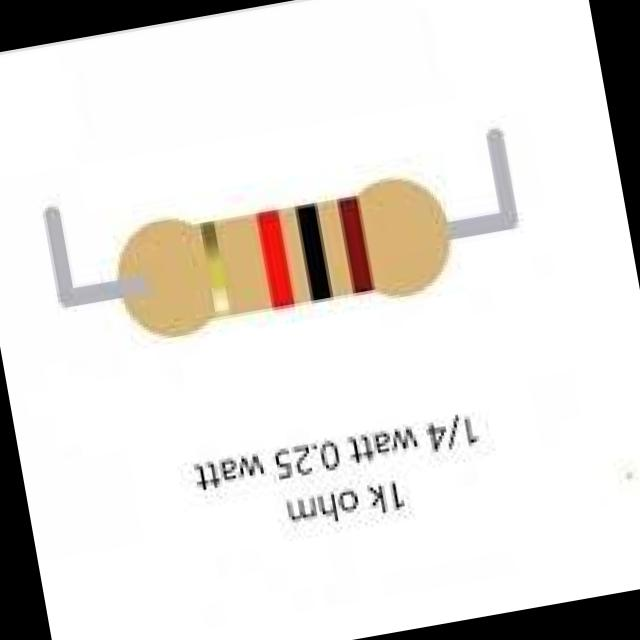Resistor: (120, 181, 451, 337)
black: (294, 199, 329, 308)
brown: (336, 179, 375, 301)
gold: (195, 221, 228, 316)
red: (256, 211, 292, 308)
